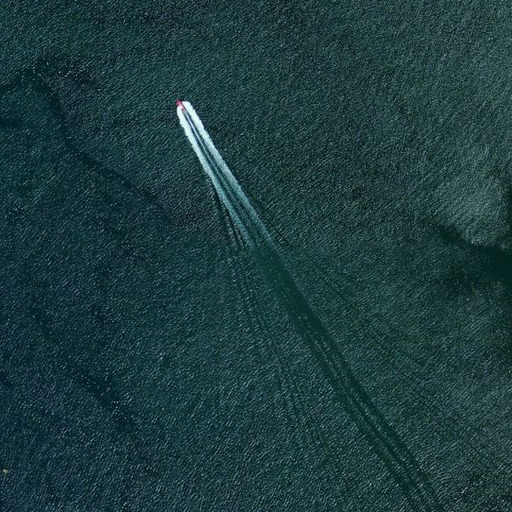ship: (174, 96, 187, 112)
